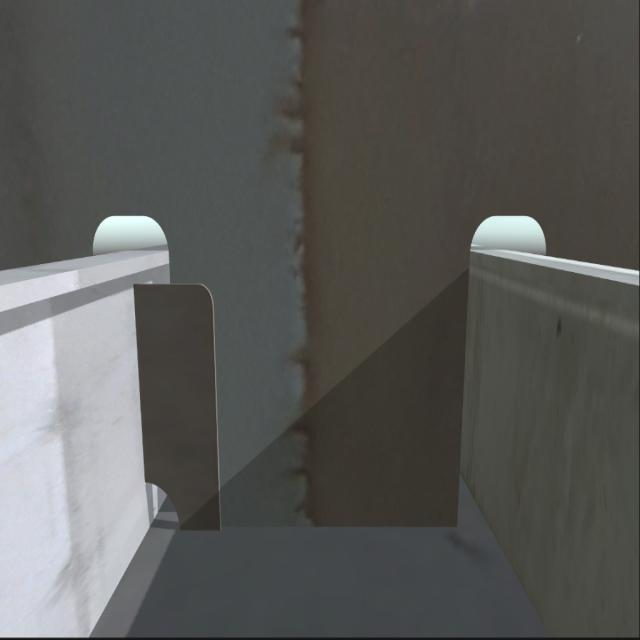fillet_hole: (143, 484, 183, 532)
fillet_yong_jeop_jang: (175, 508, 462, 540)
longi_yong_jeop_jang: (128, 279, 150, 492)
plate_CP05: (140, 283, 219, 529)
